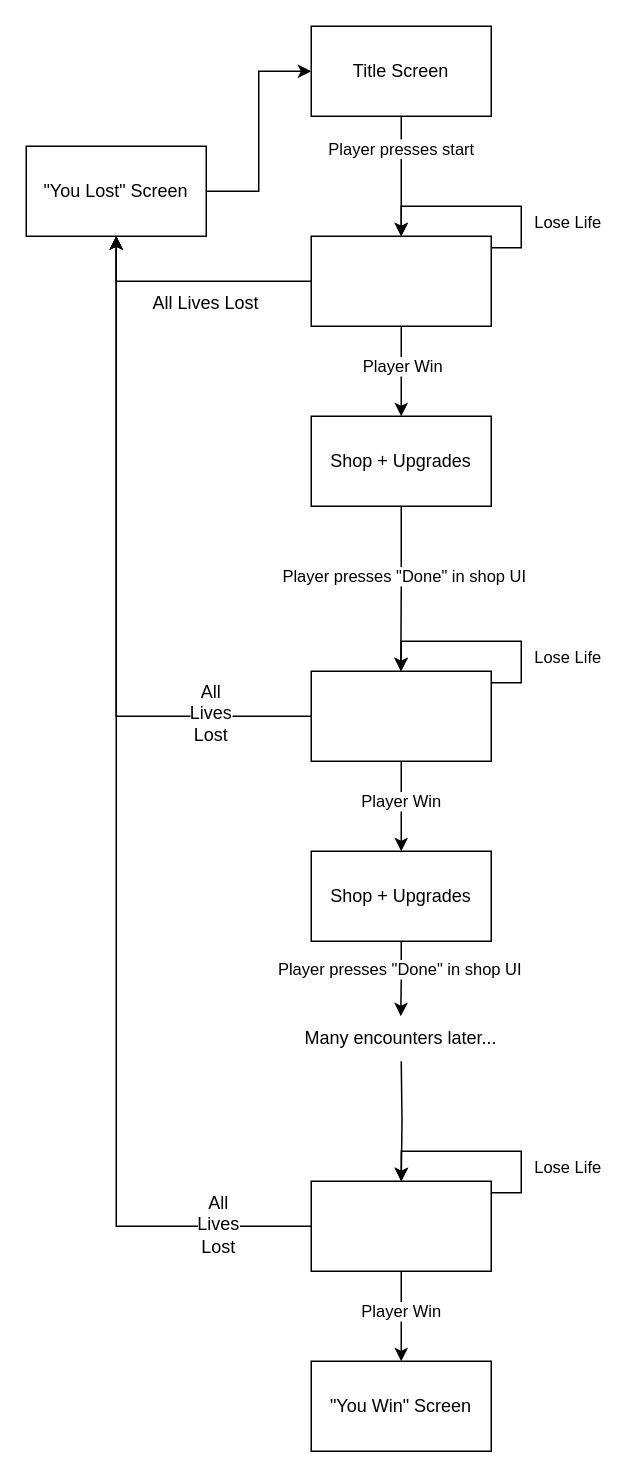
This 627x1478 diagram has some shape labels left out. Each missing label, with the centre of its shape:
"Encounter 1" belongs at (x=400, y=280).
"Encounter 10" belongs at (x=400, y=1225).
"Encounter 2" belongs at (x=400, y=715).
